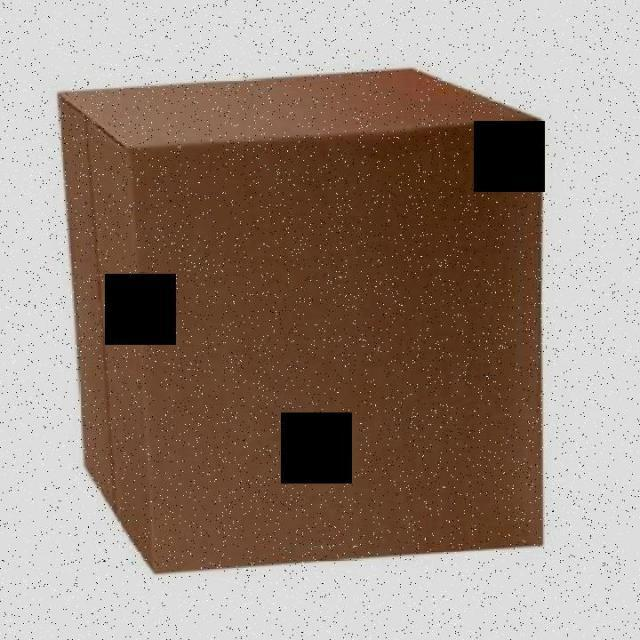box: (53, 61, 553, 577)
